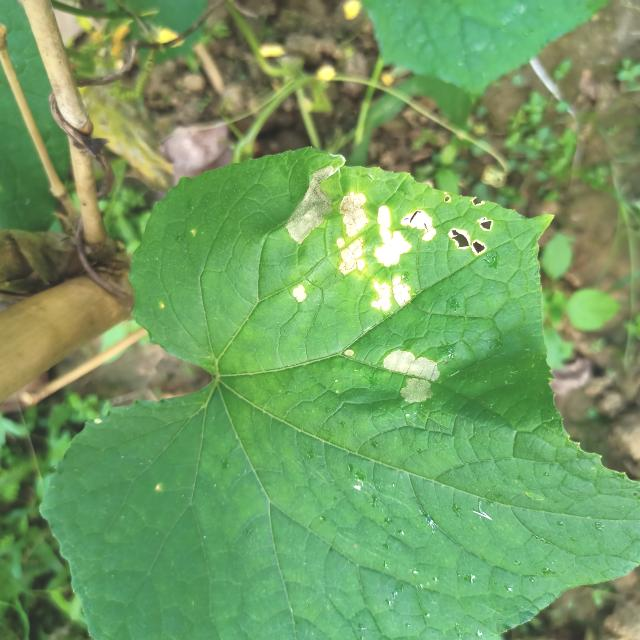disease_cucumber: (266, 162, 510, 322), (376, 342, 456, 414)
